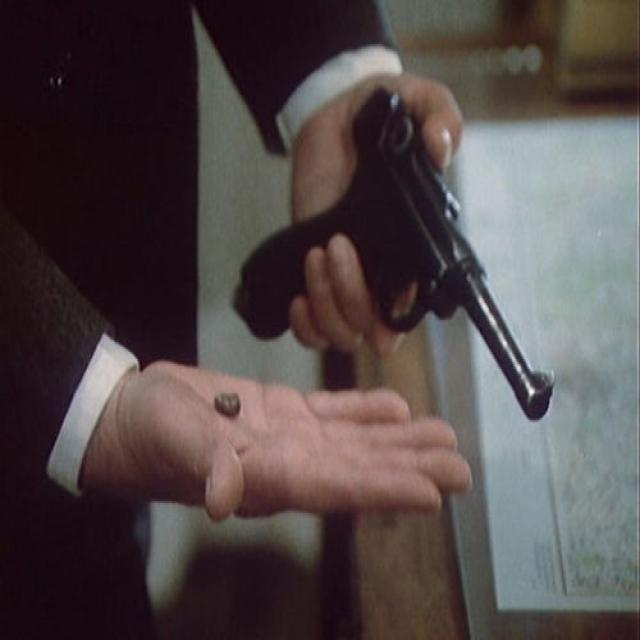weapons: (225, 67, 575, 436)
